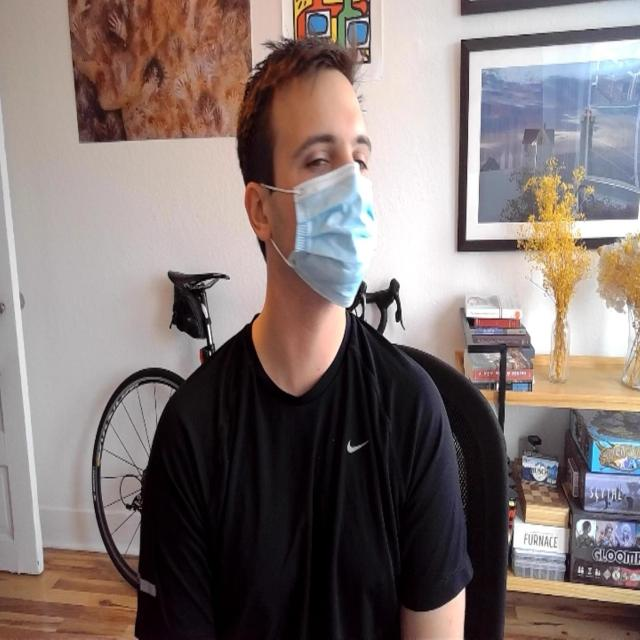Mask: (260, 68, 376, 308)
